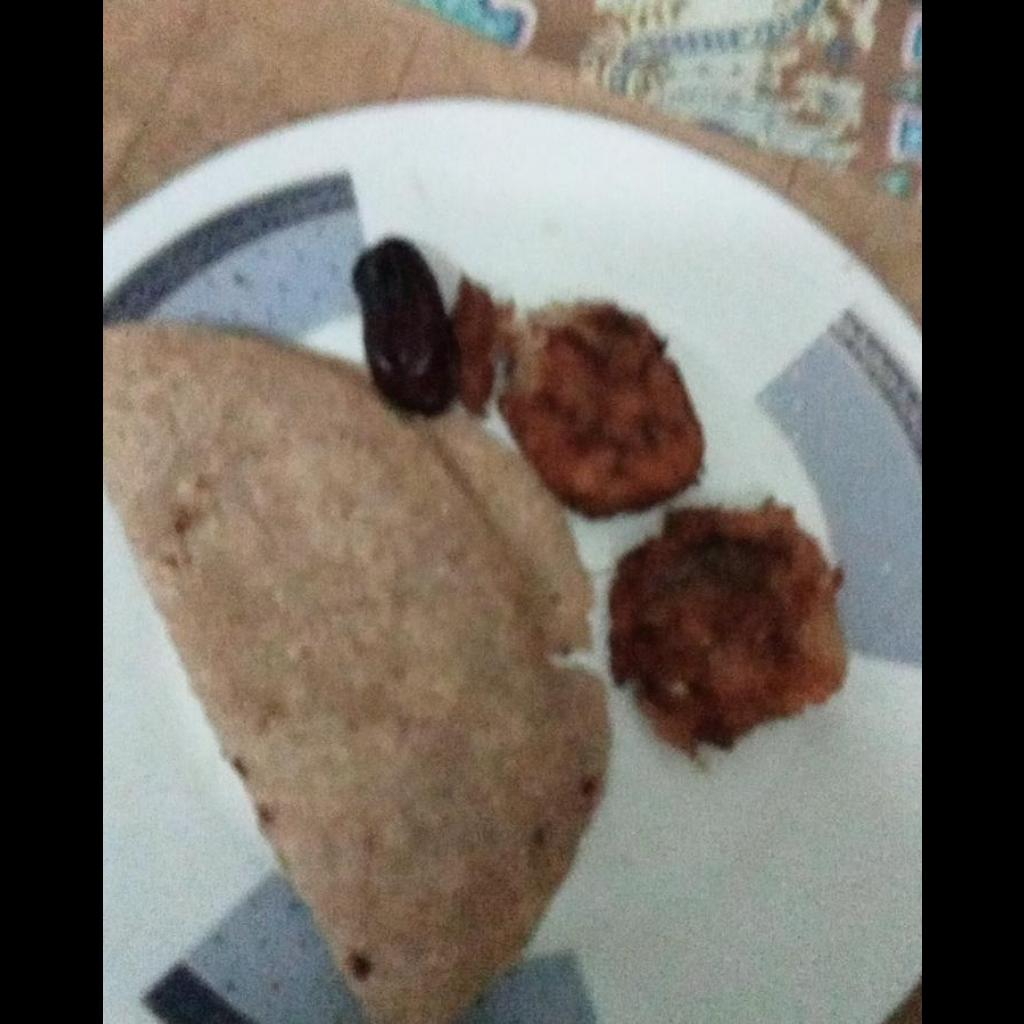chop-alu: (502, 299, 851, 755)
dates: (346, 233, 459, 421)
ruti: (102, 318, 607, 1023)
